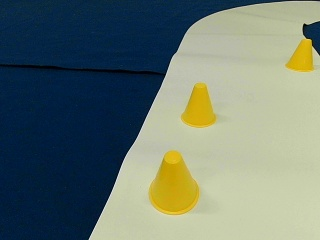cone: (148, 151, 200, 214), (181, 84, 217, 127), (286, 39, 314, 72)
